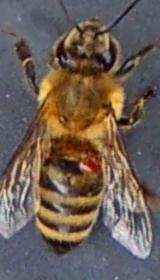varroa_mite: (75, 145, 109, 182)
